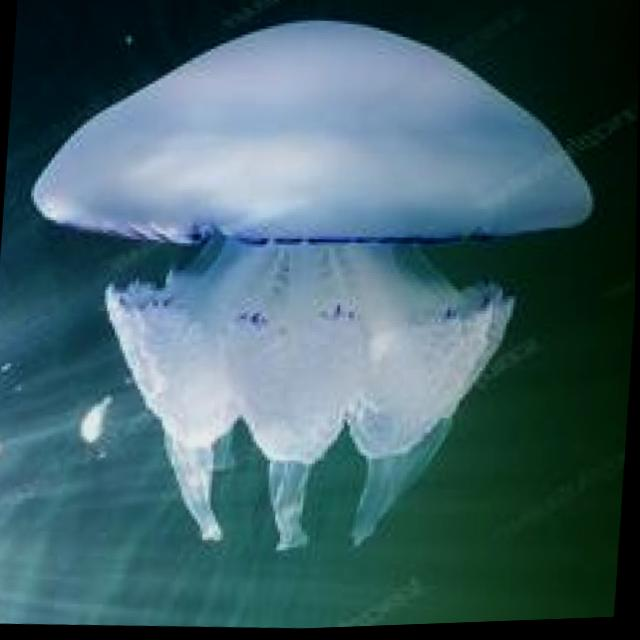Box-jellyfish: (5, 0, 607, 576)
